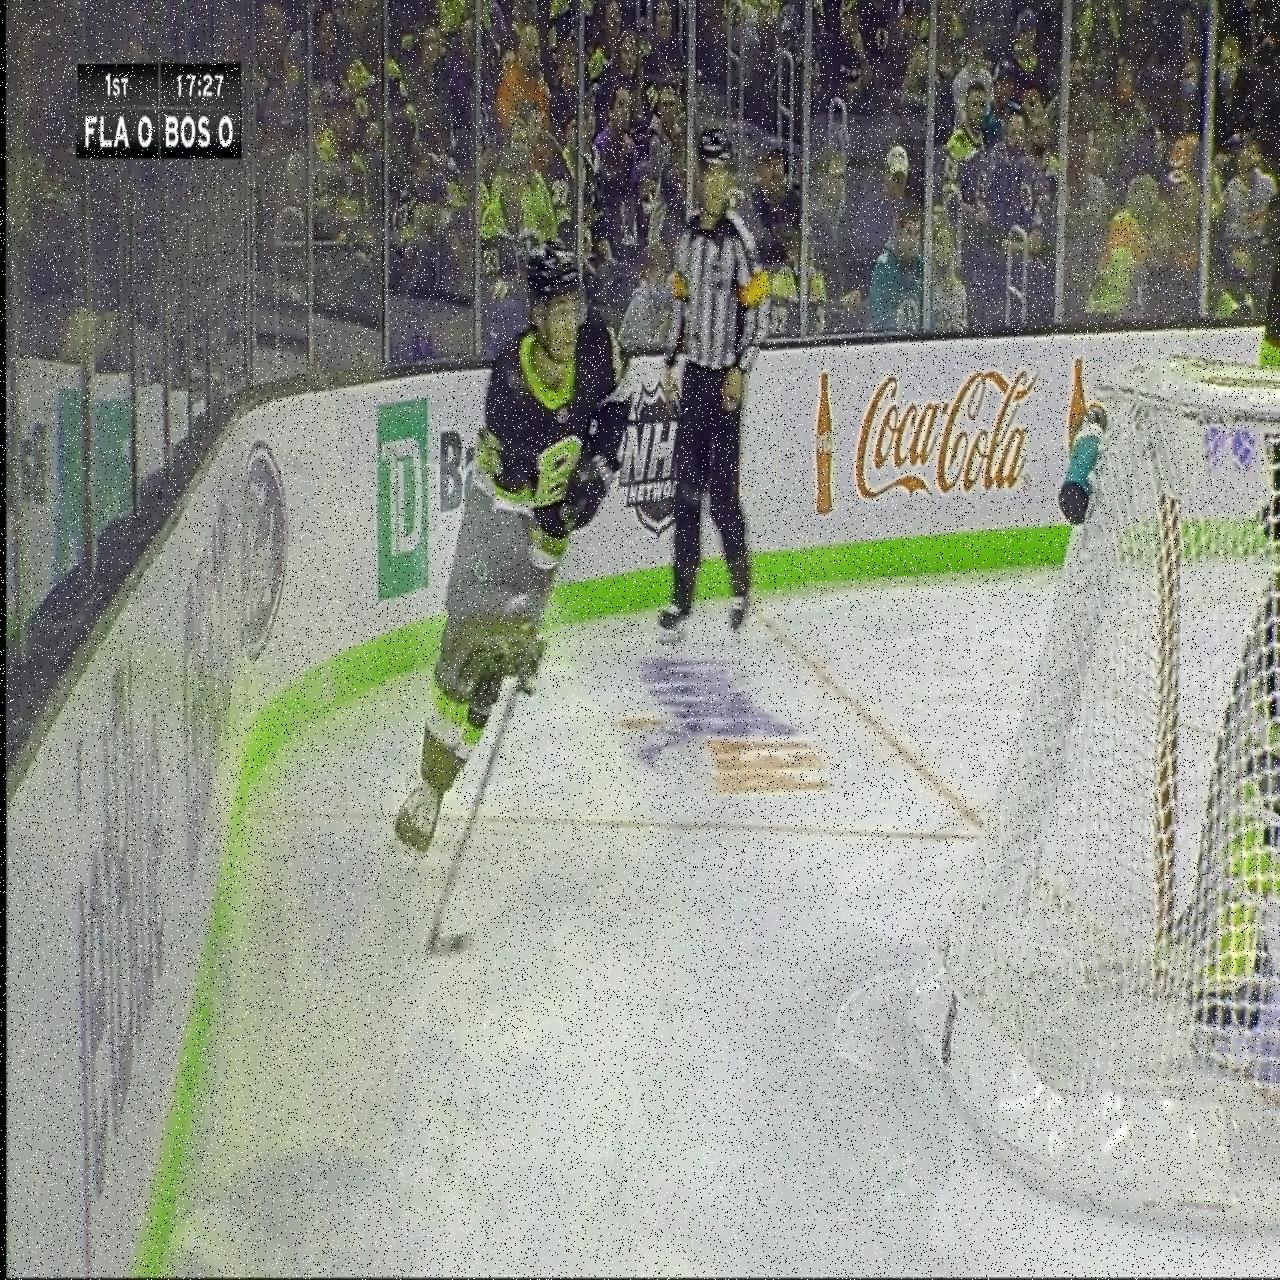Ad: (63, 638, 172, 1279), (619, 649, 830, 805), (818, 369, 1048, 510), (361, 399, 483, 624), (185, 491, 231, 884), (245, 420, 298, 669)
